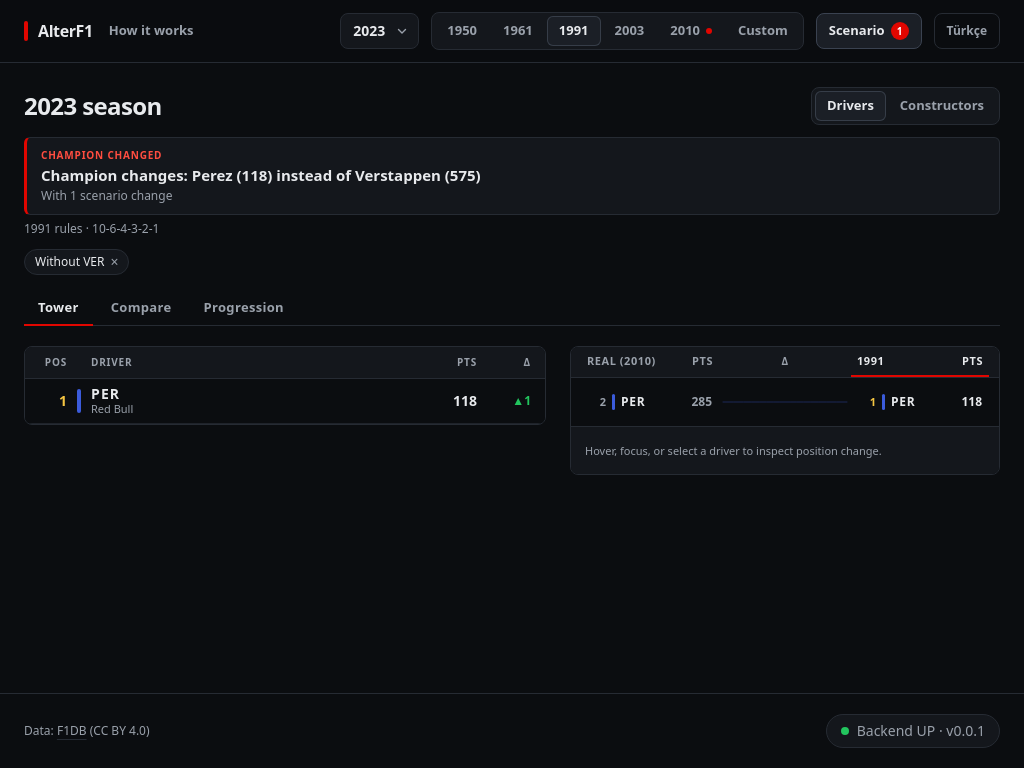
it: SeasonPage › sends exclude= in the standings request, renders the Without VER chip, and removes it on click
This screenshot has width=1024, height=768.
Expected: the text "With 1 scenario change" is shown, [41,187,172,204]
What coordinates should you click on to do the following:
click the button "Without VER ×"
I would click on:
 (77, 262)
Its box is [24,249,130,275].
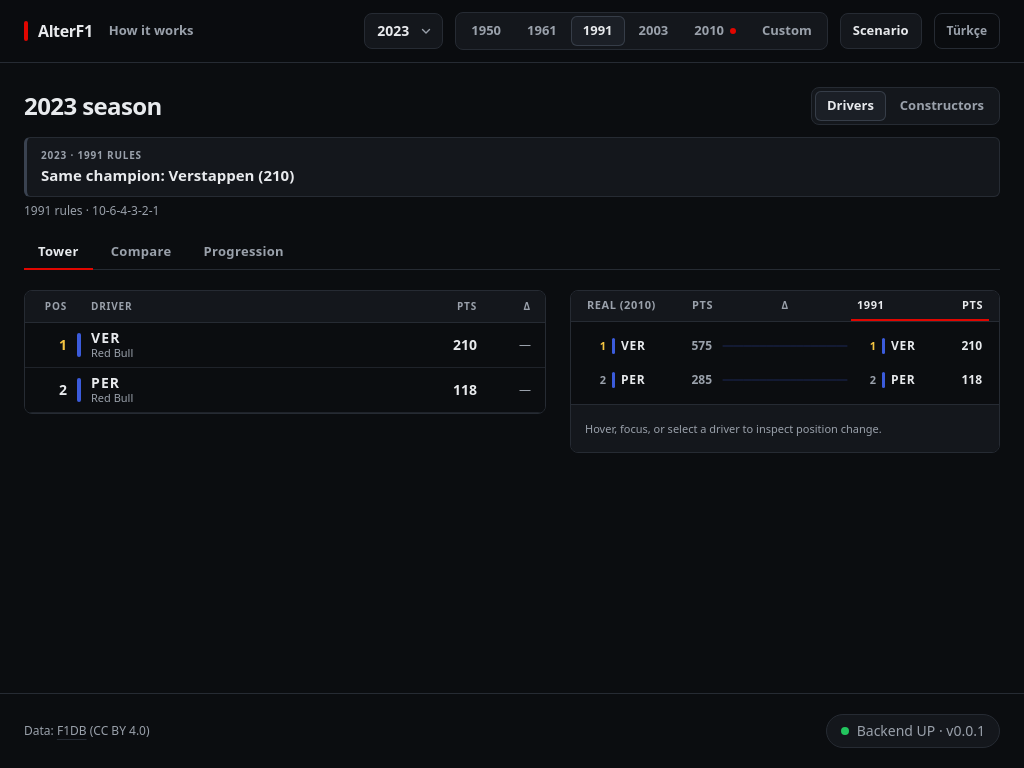
Now the button "Without VER" is gone
Now the text "Same champion: Verstappen (210)" is shown, box [41,165,294,185]
